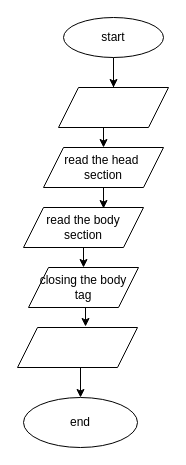
The diagram is 186 pixels wide and 465 high, and some of its shapes have lost their labels. The shapes that lost their labels are listed below. From the top down, each one's centre as x and y in pixels, then its label:
At [113,107]: "declare the document type".
At [77,347]: "closing the html tag".
